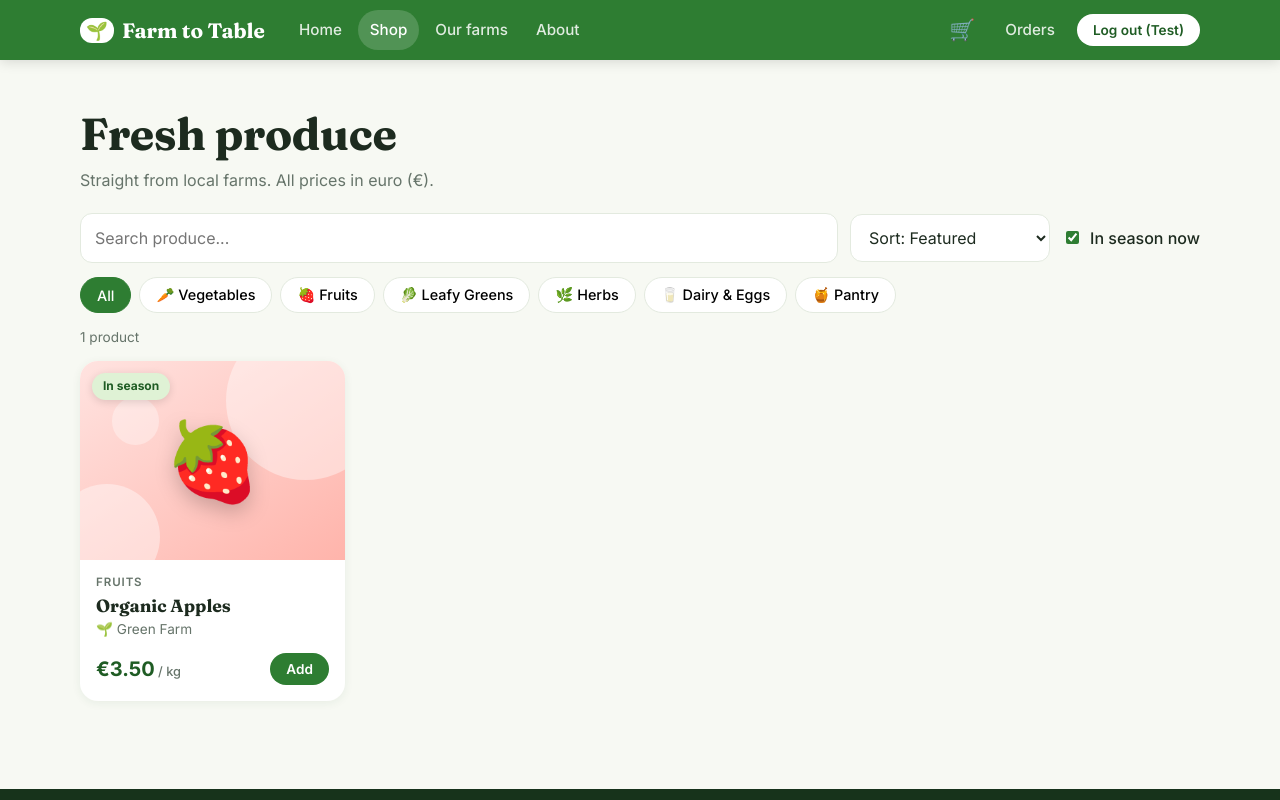
Scenario: Farm-to-Table Frontend Tests › 6. Adds product to shopping cart
This screenshot has width=1280, height=800.
Click the button "Add".
click(300, 669)  # box x1=270 y1=653 x2=329 y2=685
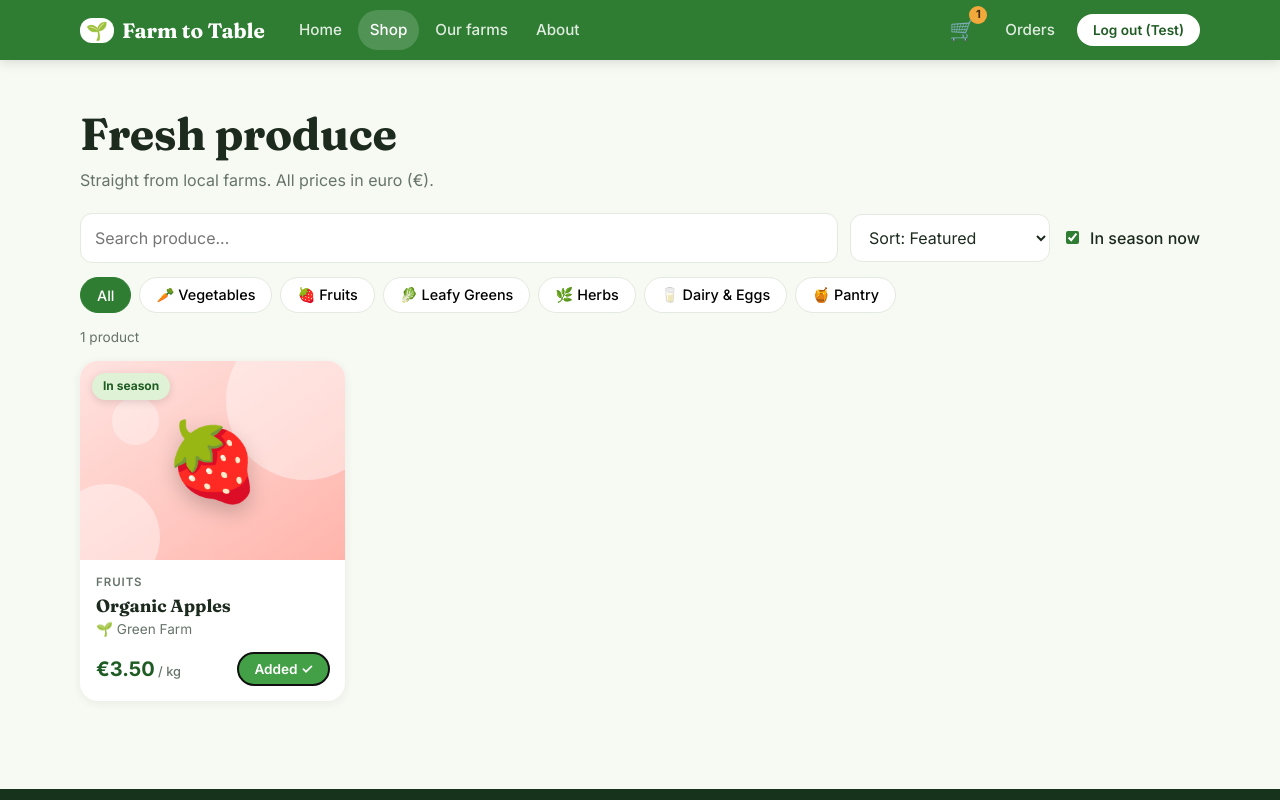
Result: the link named "Cart" shows "1"
Click the link named "Cart".
click(962, 30)  # box x1=941 y1=10 x2=983 y2=50
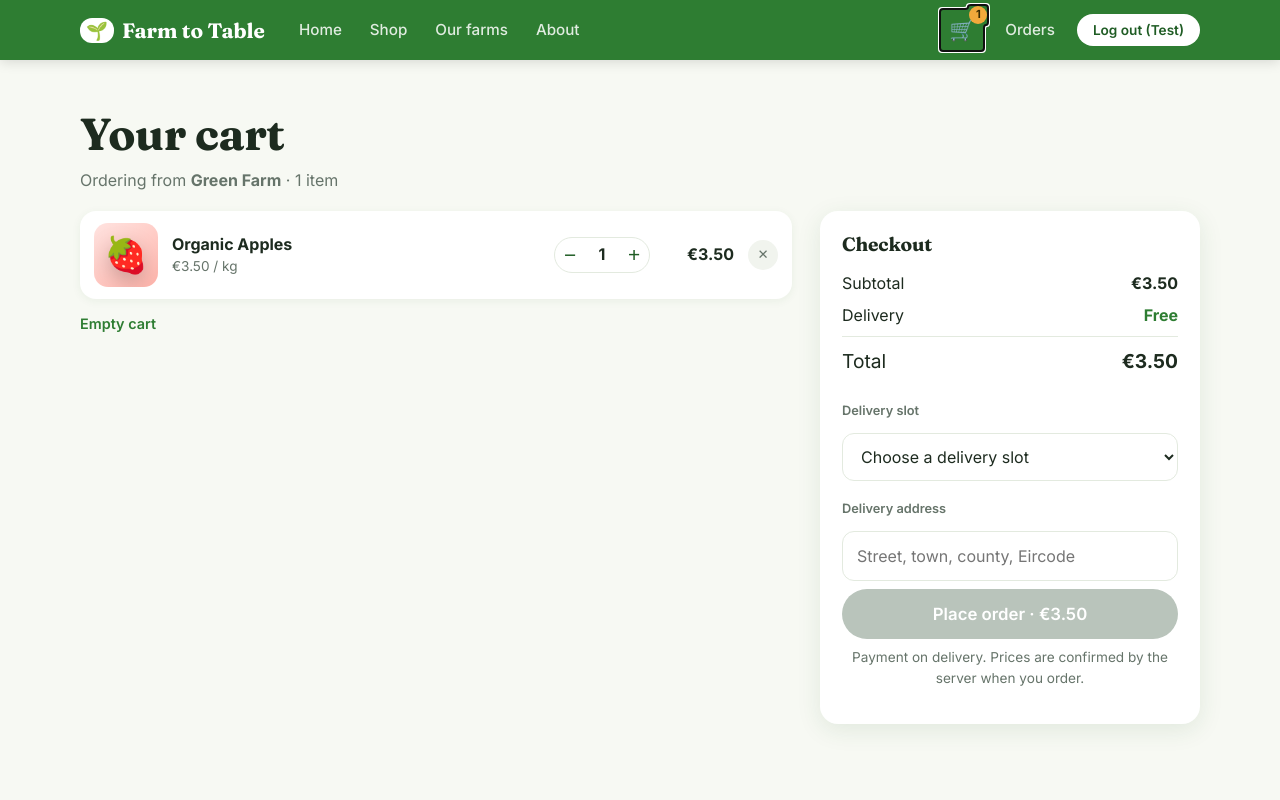
Expected: the text "Organic Apples" is shown, x1=172 y1=234 x2=292 y2=254
Result: the heading "Your cart" is shown at x1=80 y1=106 x2=284 y2=161
